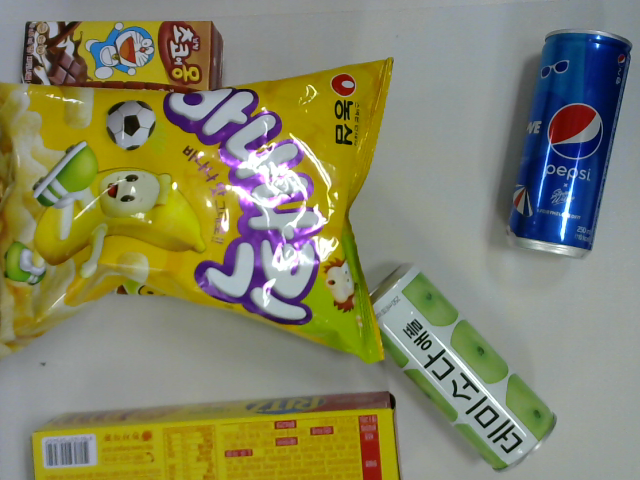Banana_Kick: (1, 58, 394, 366)
Choco_E_Mong: (20, 19, 225, 90)
Demisoda_Apple_Can_250ml: (369, 261, 559, 475)
Pepsi_Cola_Can_250ml: (506, 28, 633, 259)
Ritz_Remon_96g: (32, 390, 402, 480)
